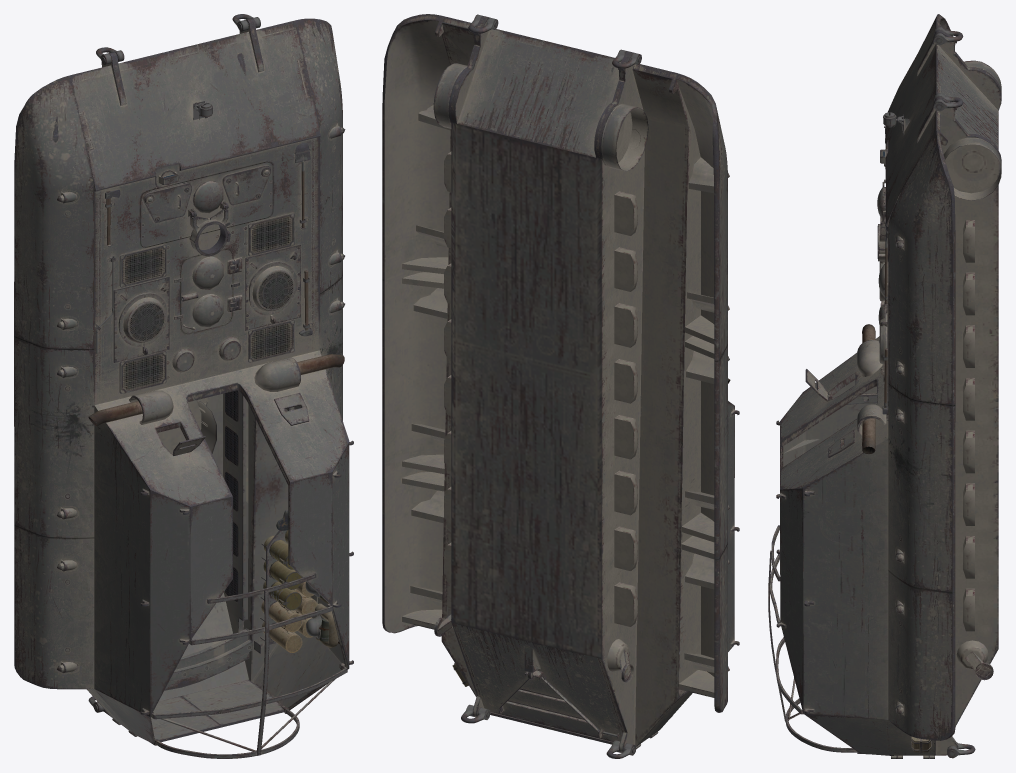
Rendered from Hull.glb.
The picture shows the model from 3 angles, left to right: view 1: azimuth 30°, elevation 25°; view 2: azimuth 150°, elevation 25°; view 3: azimuth 270°, elevation 25°; orthographic projection. The views are drawn at different scales.
Visible parts, largest first — view 1: set_0_group_0, set_0_group_1; view 2: set_0_group_0, set_0_group_1; view 3: set_0_group_0, set_0_group_1.
Boxes of the visible parts, <box> form: set_0_group_0: <box>14,18,353,758</box>; set_0_group_1: <box>88,14,339,712</box>; set_0_group_0: <box>382,14,739,752</box>; set_0_group_1: <box>461,14,641,758</box>; set_0_group_0: <box>768,14,1001,758</box>; set_0_group_1: <box>833,27,975,758</box>.
Size of the model in its own units: 4.49 by 8.92 by 2.85.
2 materials, 2 textured.
